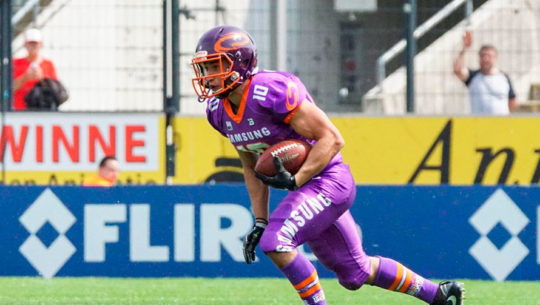futbol americano: (255, 139, 311, 175)
